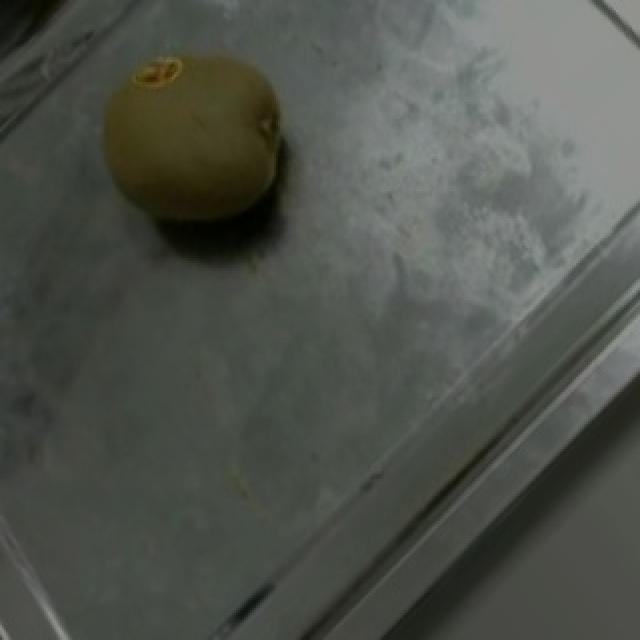Fruit: (62, 12, 320, 263)
